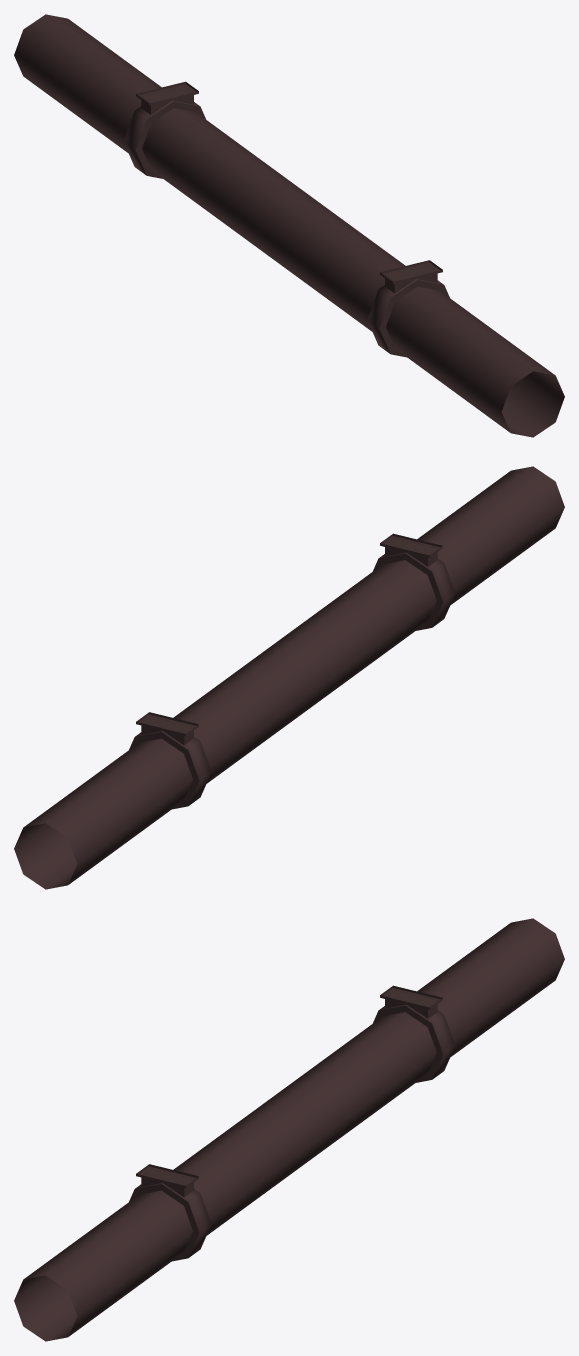
File: SW_ENV_PipeStraight_02m.fbx
3 views of the same model, one above another, from view 1: azimuth 30°, elevation 25°; view 2: azimuth 150°, elevation 25°; view 3: azimuth 330°, elevation 25° (orthographic).
Visible parts, largest first — view 1: SW_ENV_PipeStraight_02m; view 2: SW_ENV_PipeStraight_02m; view 3: SW_ENV_PipeStraight_02m.
Part boxes in pixels (bbox=[...]): SW_ENV_PipeStraight_02m: bbox=[14, 14, 564, 437]; SW_ENV_PipeStraight_02m: bbox=[14, 466, 564, 889]; SW_ENV_PipeStraight_02m: bbox=[14, 918, 564, 1341].
Bounding box in the file's own units: 0.18 × 0.19 × 2.
